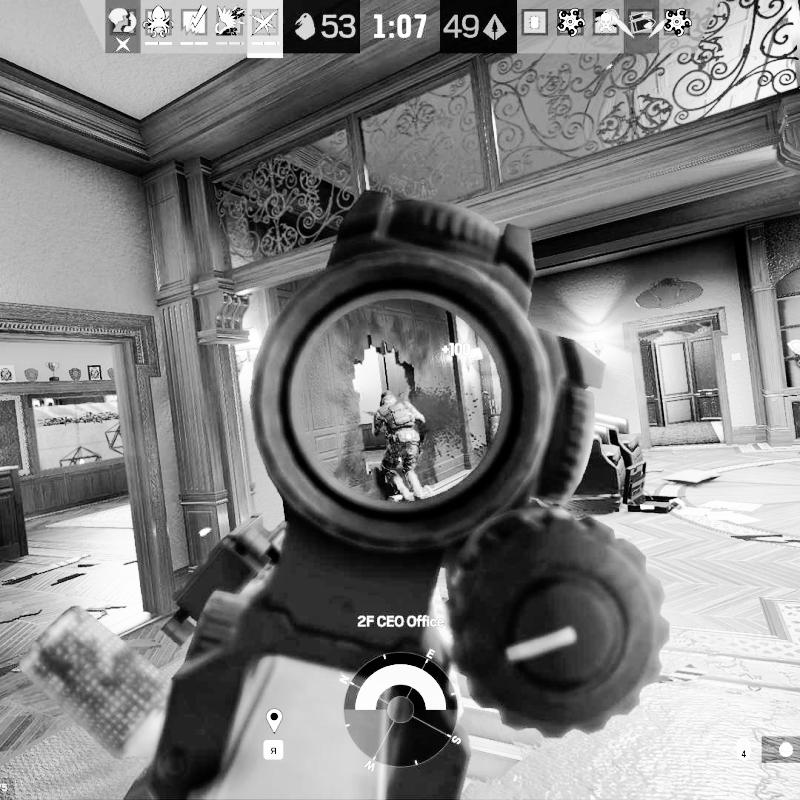Character: (368, 394, 434, 504)
Head: (379, 391, 395, 410)
